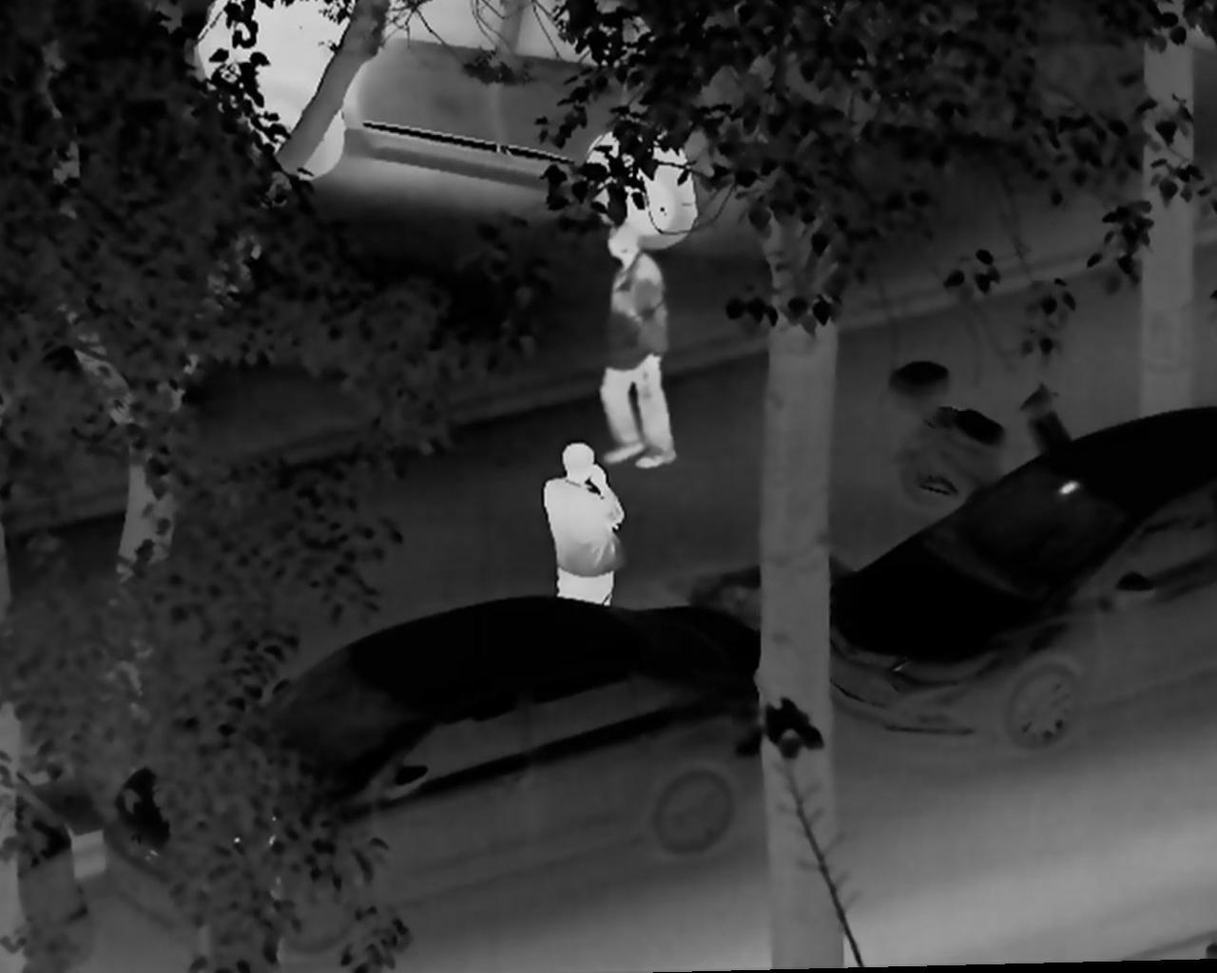person: (582, 225, 679, 472), (531, 444, 625, 616)
